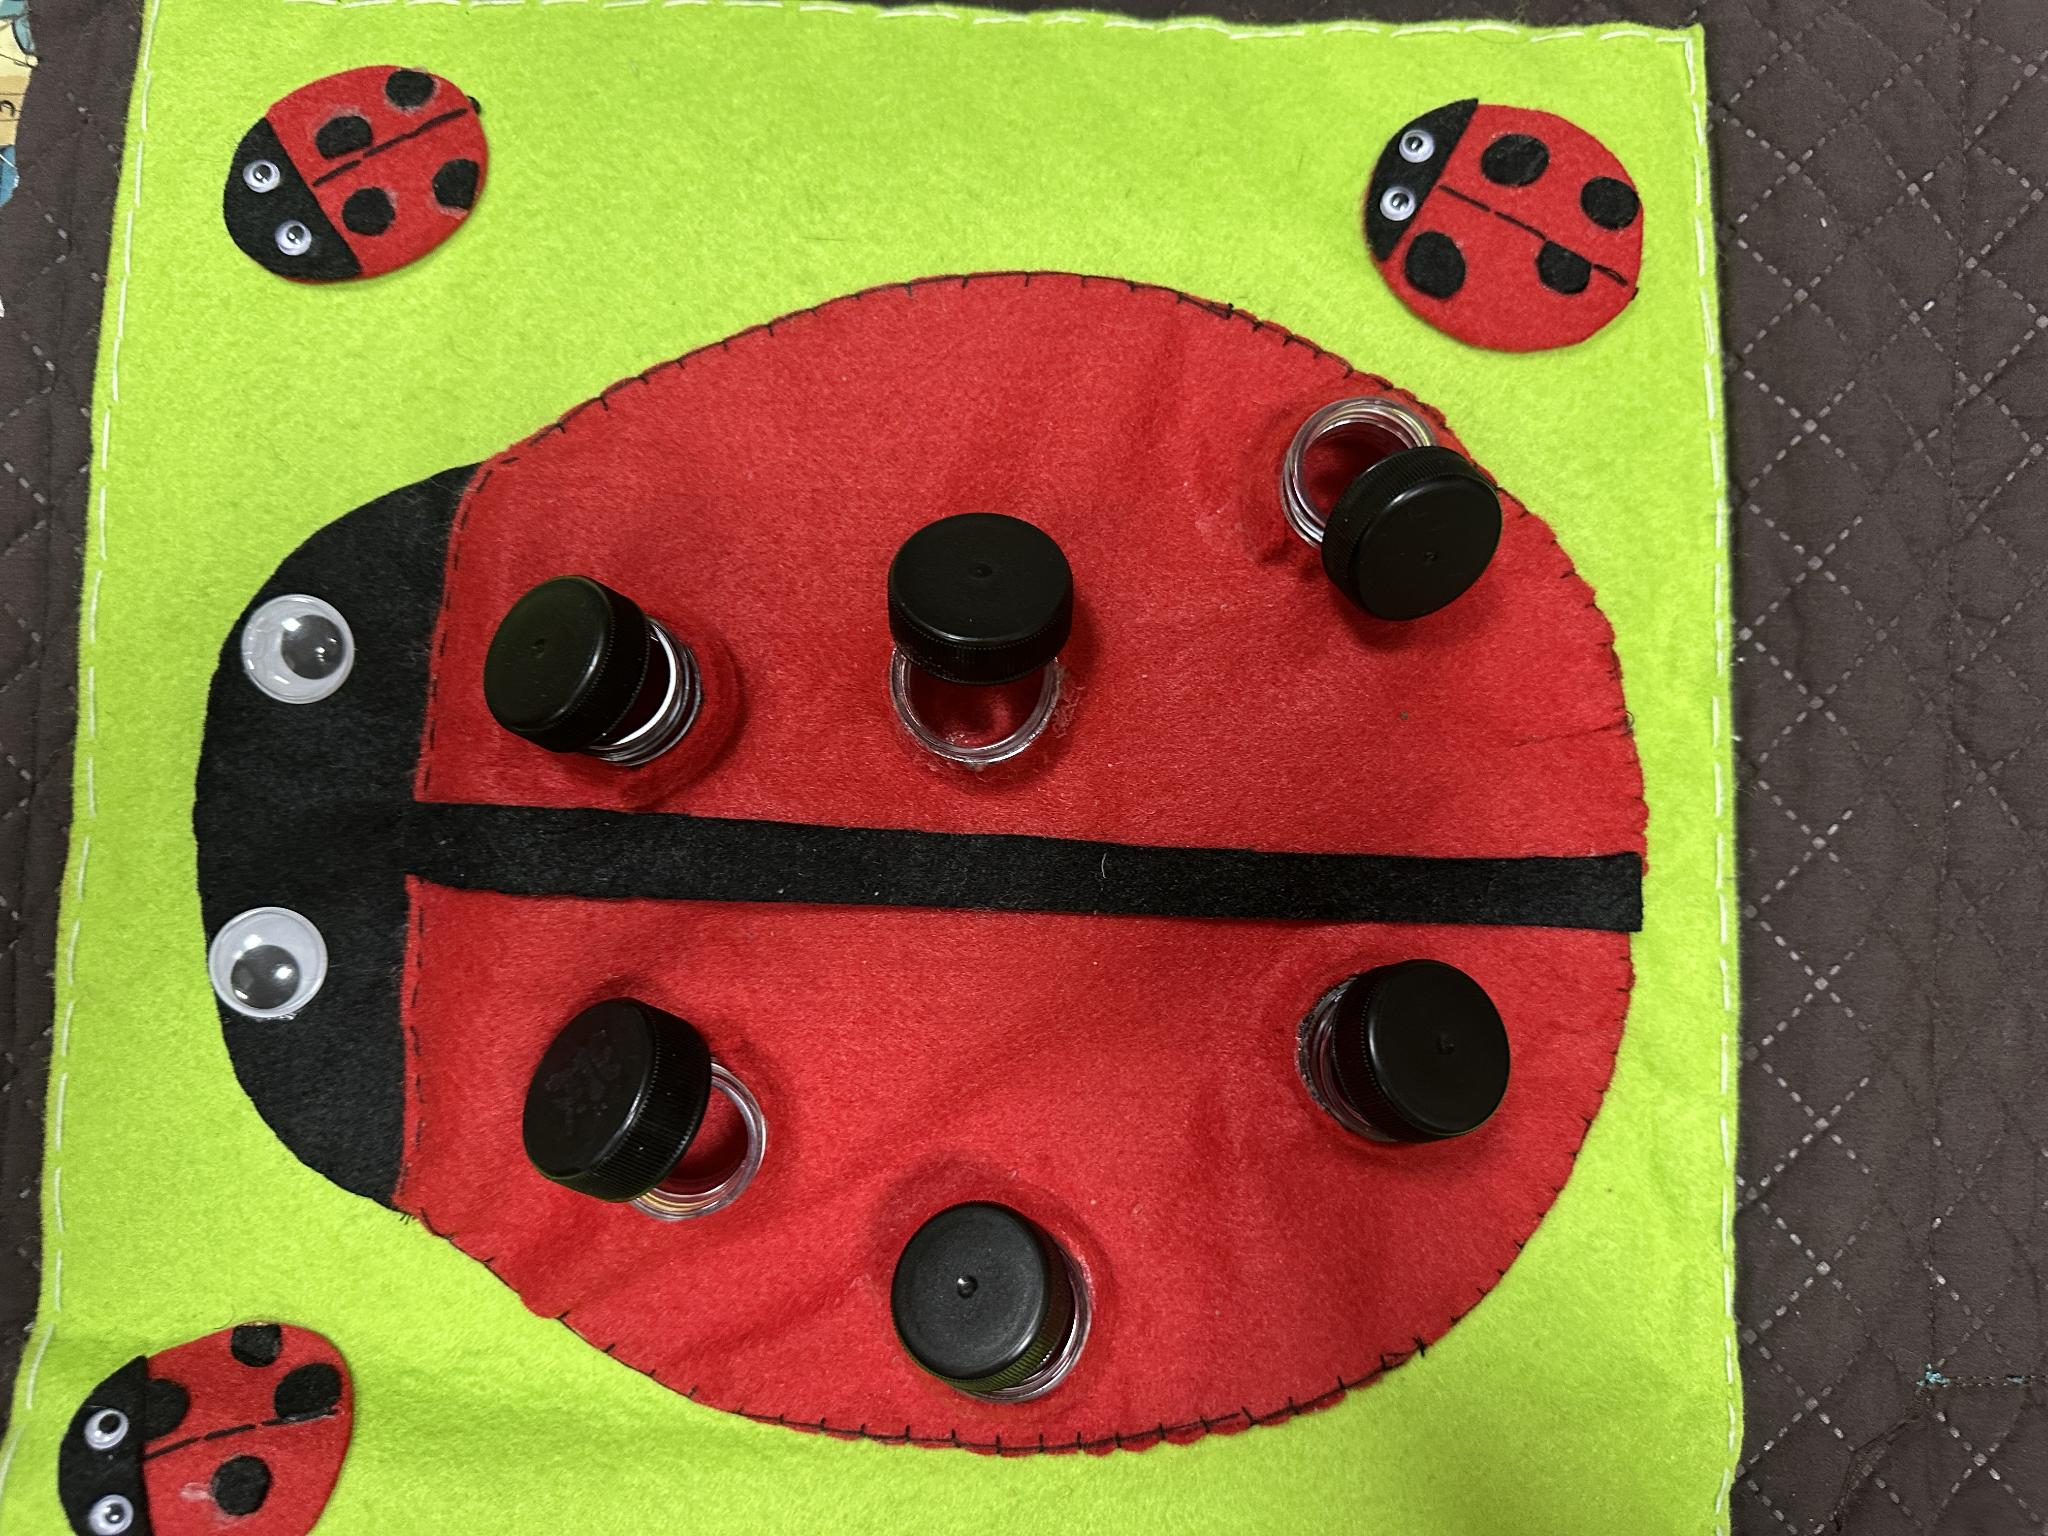cap_ng: (805, 499, 1138, 807), (498, 963, 816, 1255), (461, 565, 777, 820), (1263, 933, 1566, 1196), (1245, 379, 1550, 632), (861, 1167, 1143, 1430)
